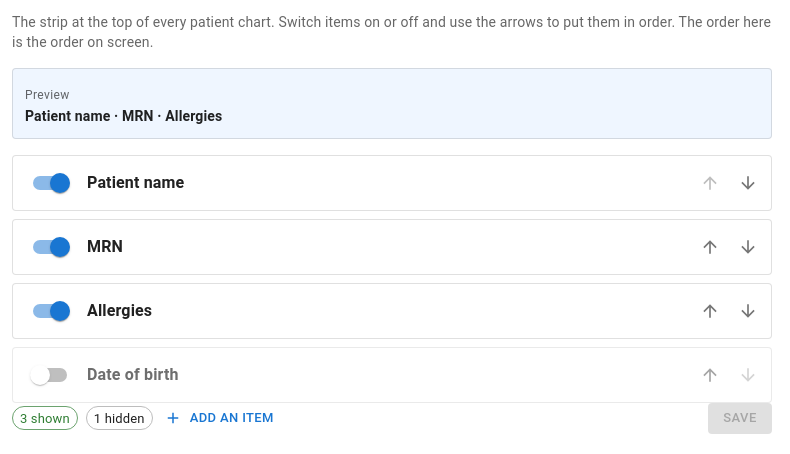
Test: switching an item off updates the preview and enables Save
The width and height of the screenshot is (790, 454).
Expected: the element with test id "header-row-name" is shown, [12,155,772,211]
Click the switch named "Show MRN" at (50, 247), box [21,228,79,266]
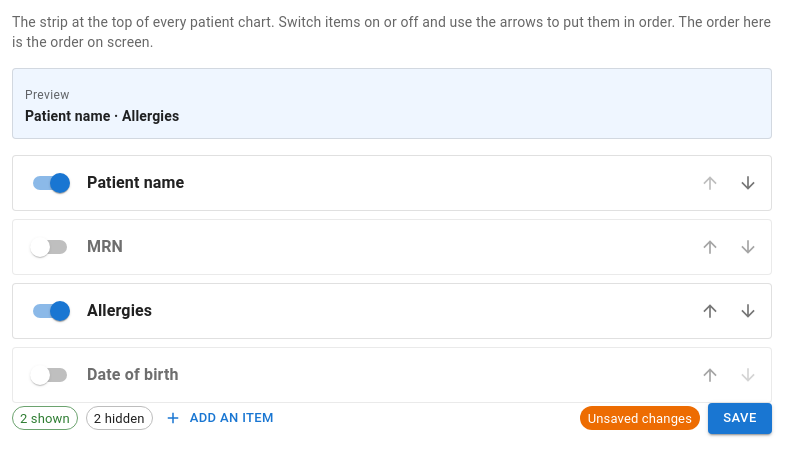
Expected: the element with test id "header-preview" does not show "MRN", [12,68,772,139]
Result: the text "Unsaved changes" is shown at [580,409,700,428]
Result: the button "Save" is enabled at [708,403,772,434]
